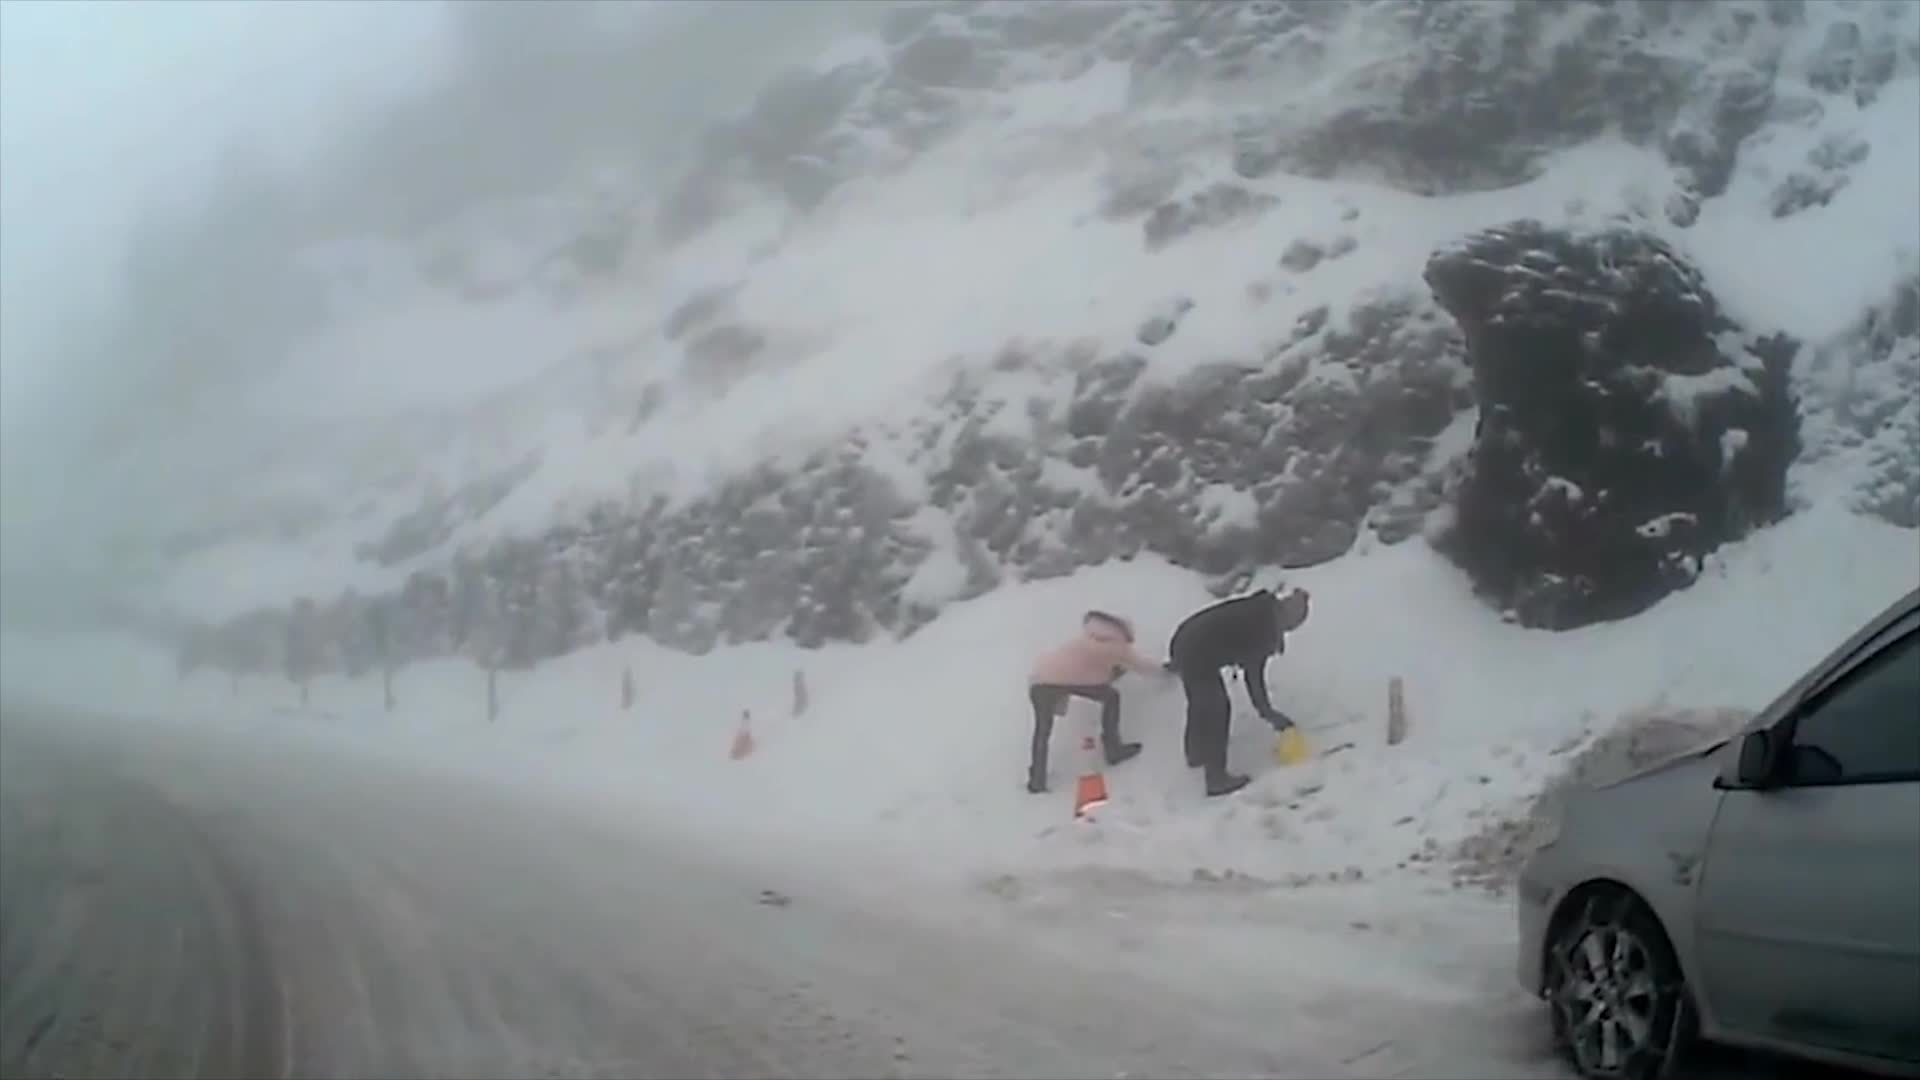pedestrian: (1170, 587, 1308, 800), (1022, 611, 1178, 794)
vehicle: (1513, 590, 1920, 1076)
